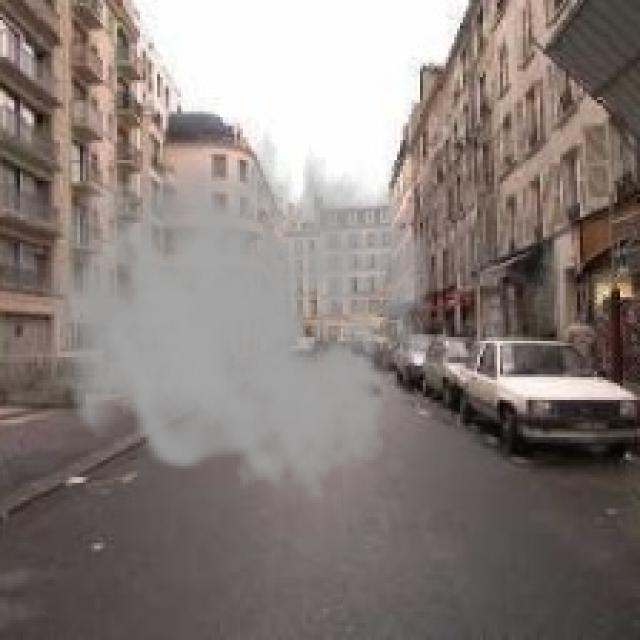smoke: (43, 111, 434, 503)
